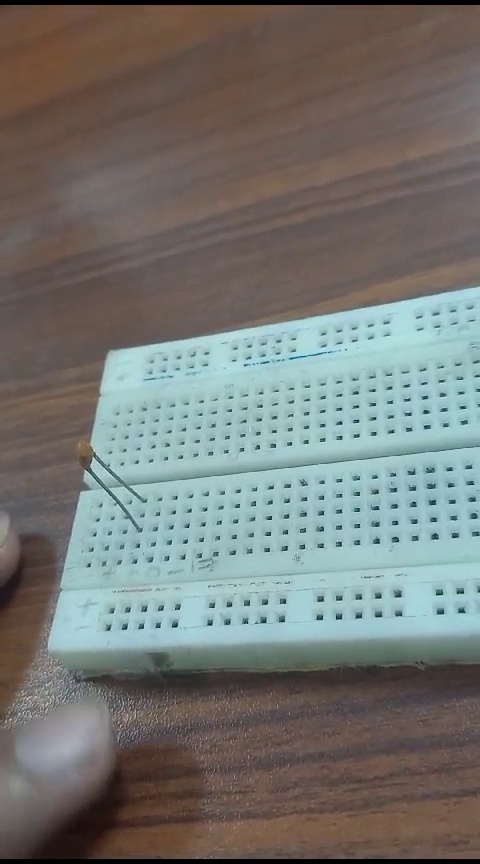ceramic capacitor: (56, 433, 142, 532)
